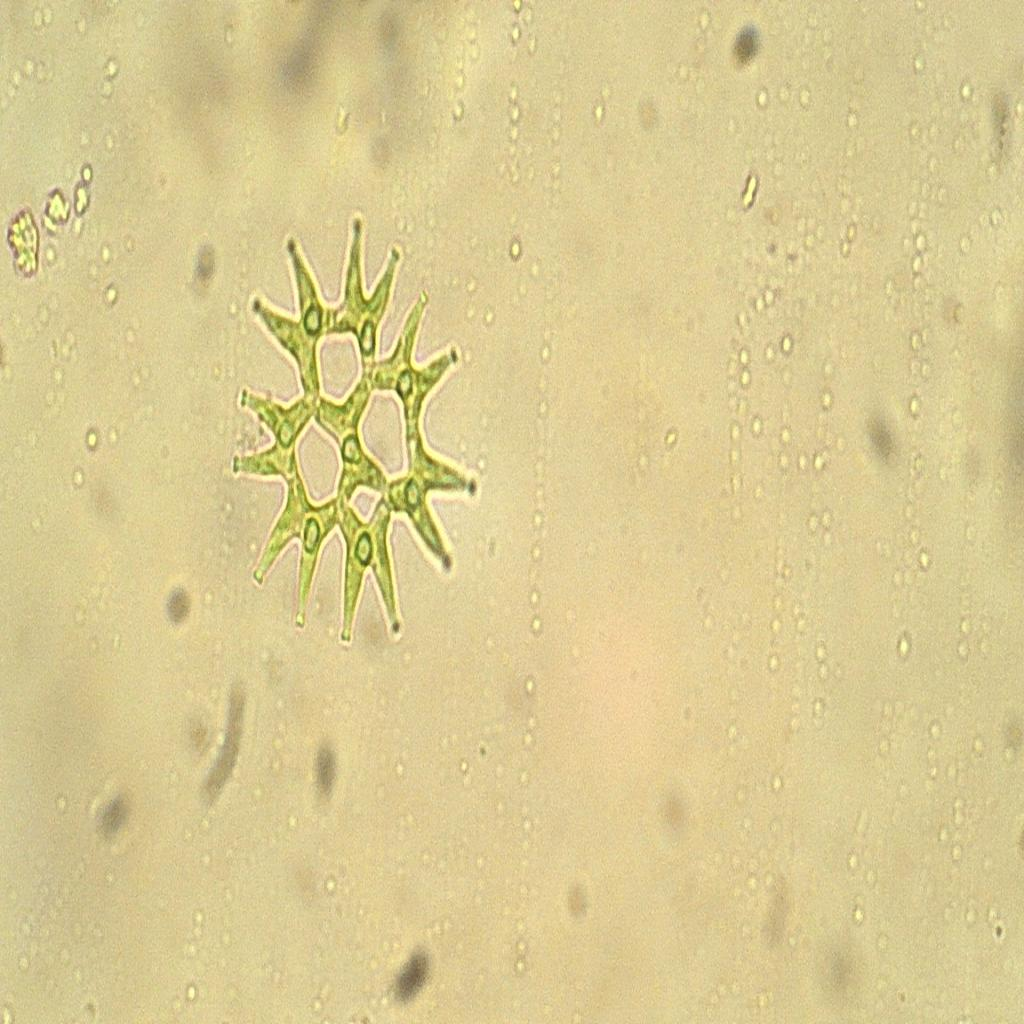Pediastrum_75T: (221, 200, 487, 661)
